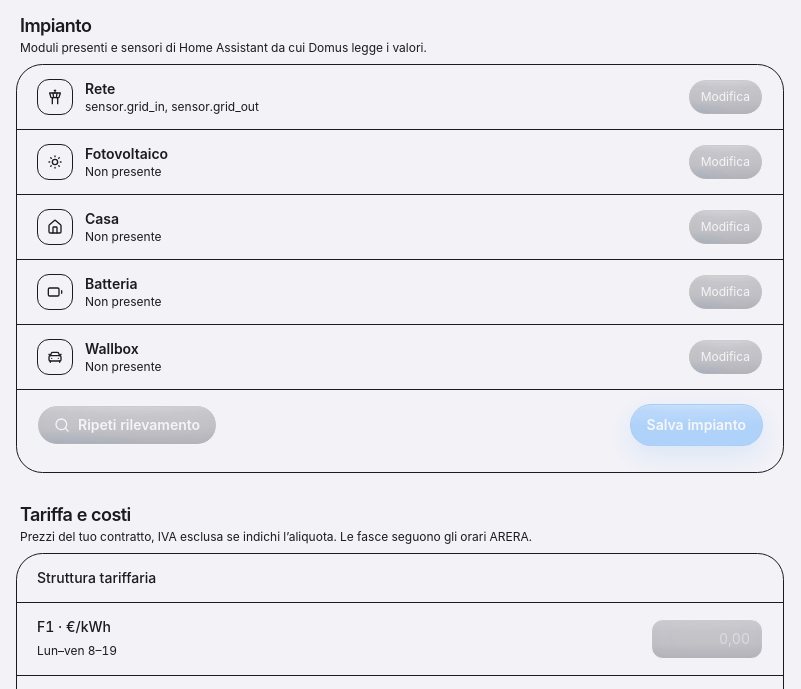
Test case: Energy settings › explains a v1 save the integration refuses because it would drop v2 data
Click the button with aria-label "Modifica Fotovoltaico" at {"x": 725, "y": 162}, box [688,144,763,180]
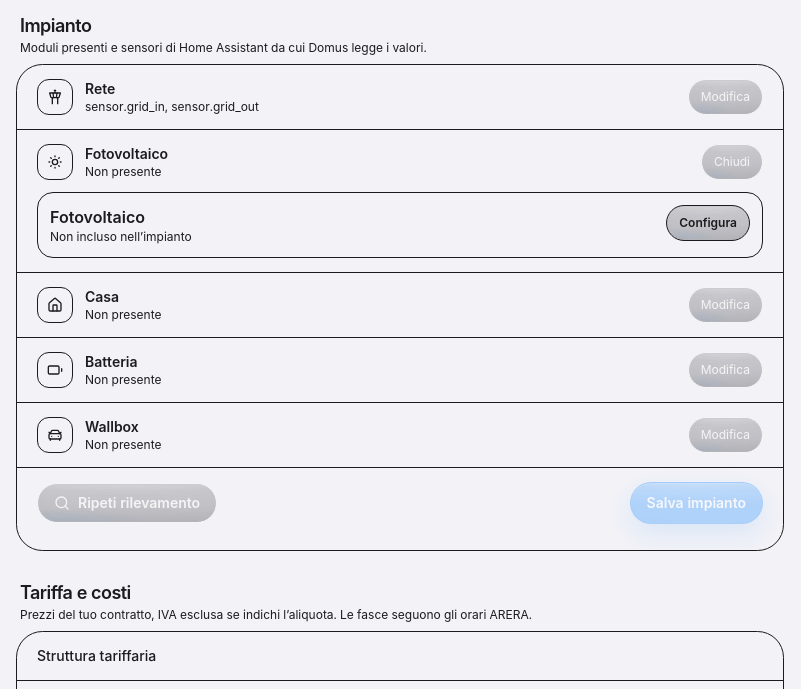
Click the button with aria-label "Configura Fotovoltaico" at {"x": 708, "y": 223}, box [666,205,750,241]
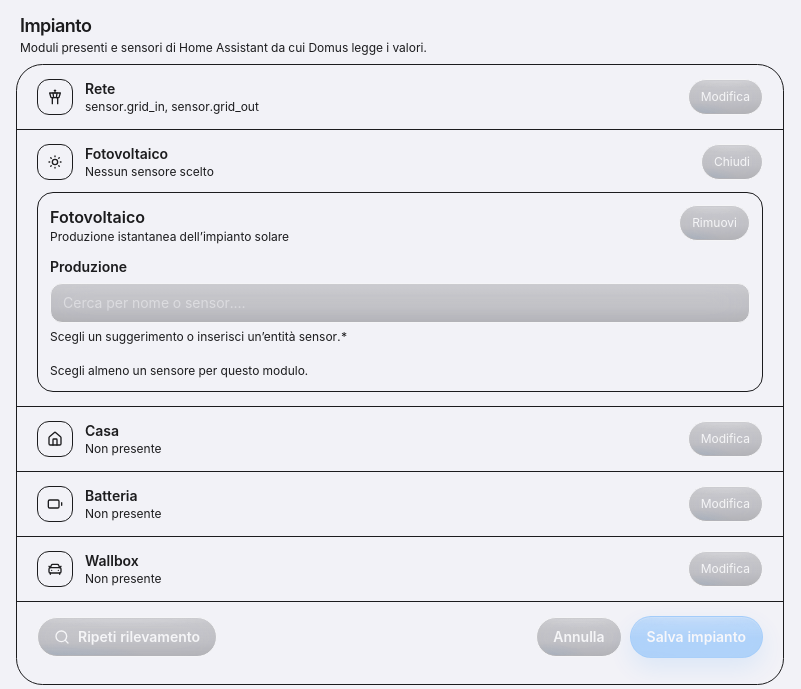
Type "sensor.pv_power" into the dropdown labelled "Produzione" at {"x": 400, "y": 303}, box [50,283,750,323]
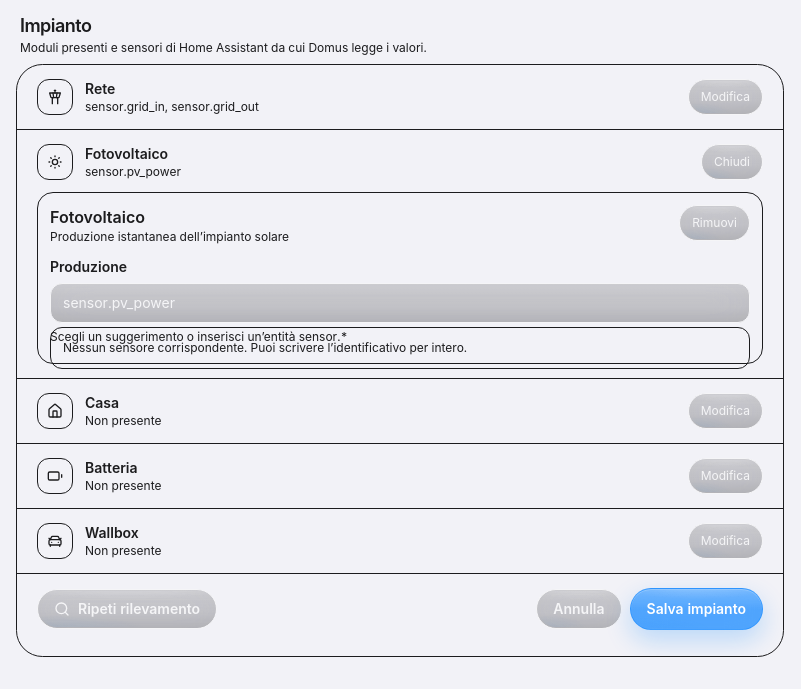
Click the button "Salva impianto" at {"x": 696, "y": 609}, box [630,588,763,630]
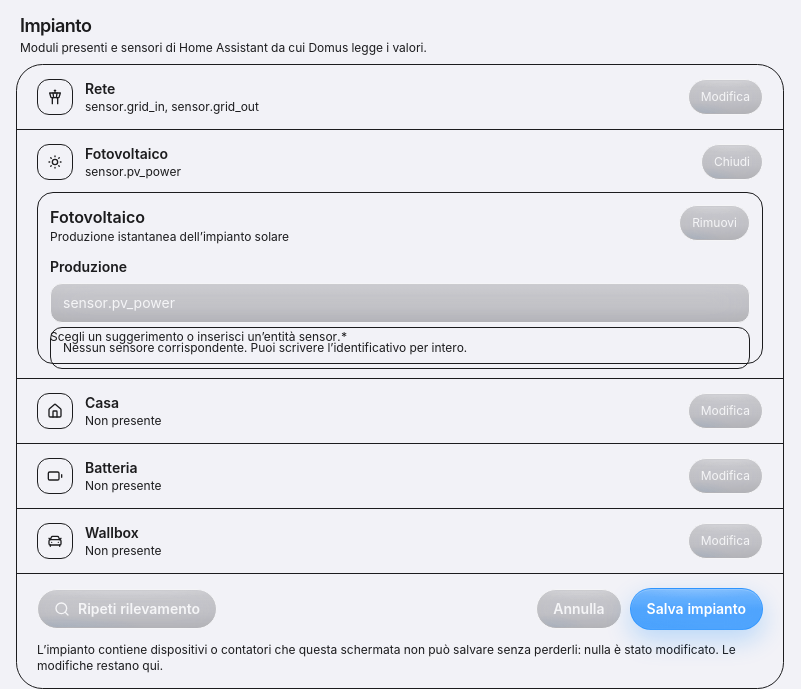
Now the message shows "non può salvare senza perderli: nulla è stato modificato", box [37,642,736,673]
